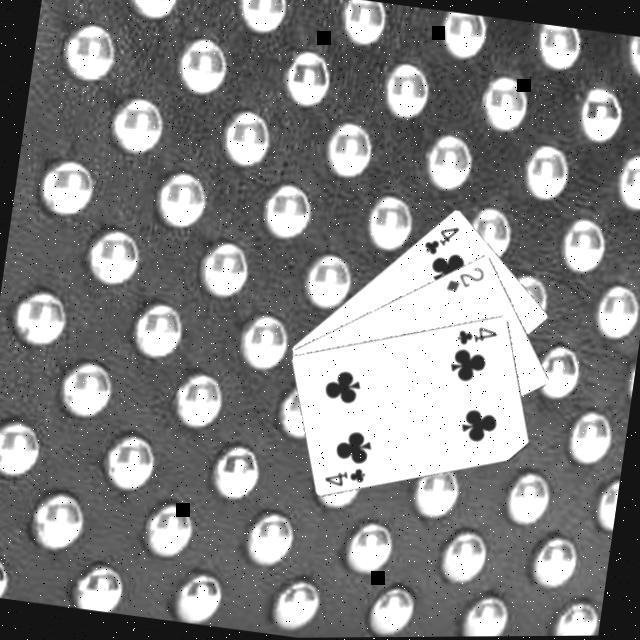2D: (441, 259, 489, 299)
4C: (419, 219, 462, 260), (319, 459, 370, 492), (452, 319, 501, 352)
